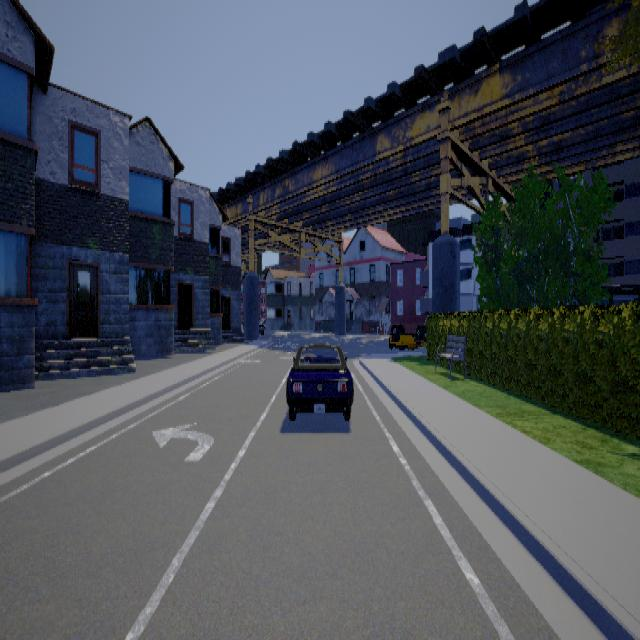vehicle: (285, 342, 353, 419), (388, 322, 425, 348)
